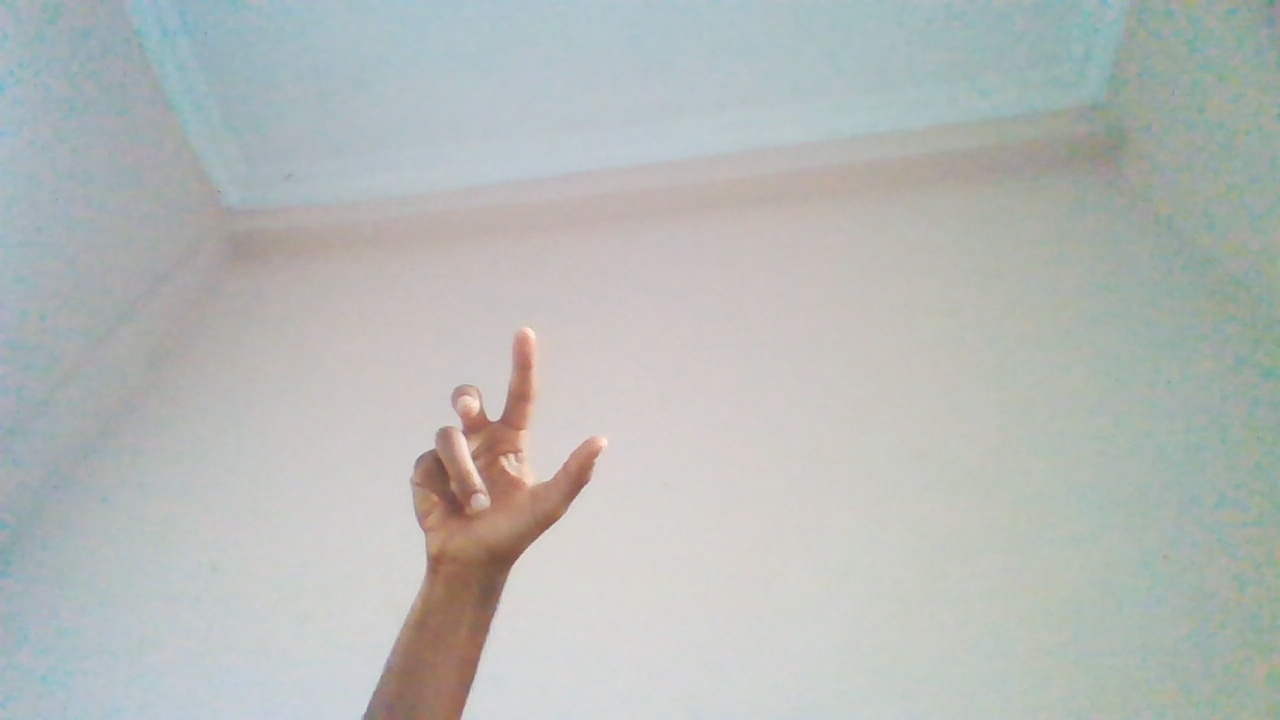hhe: (408, 327, 611, 642)
